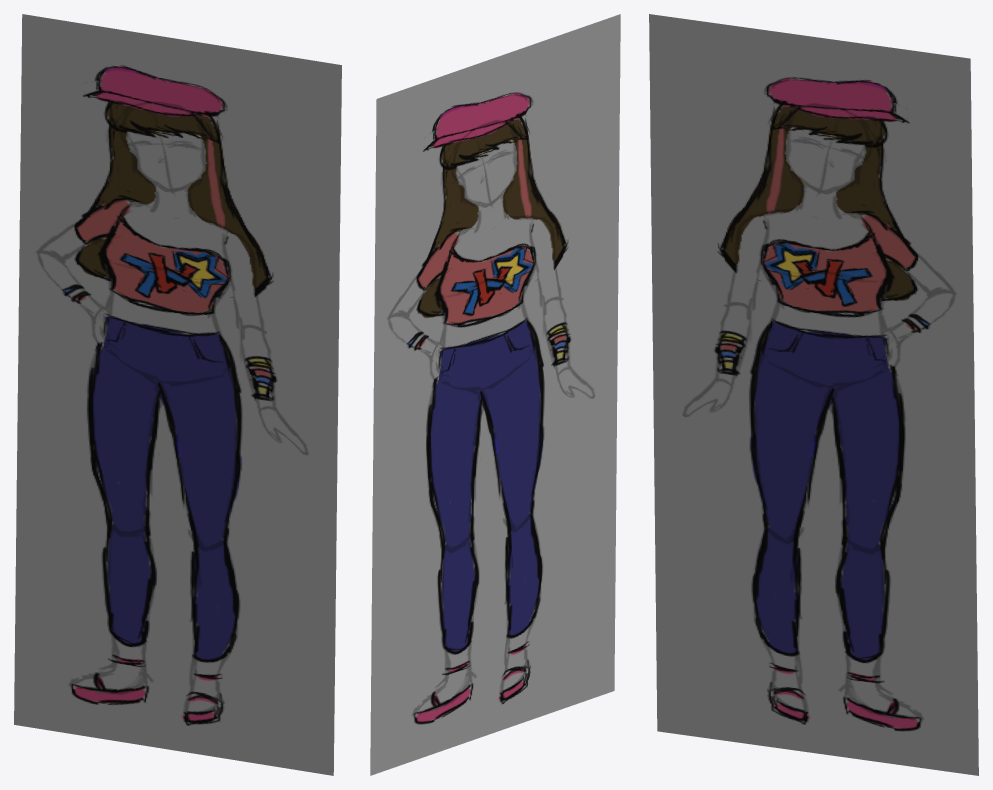
File: Vanessa_Placeholder_01.fbx
3 renders of one model, left to right at view 1: azimuth 90°, elevation 25°; view 2: azimuth 150°, elevation 25°; view 3: azimuth 270°, elevation 25°, orthographic. The views are drawn at different scales.
Visible parts, largest first — view 1: pPlane1; view 2: pPlane1; view 3: pPlane1.
Part boxes in pixels (x1,y1,x2,y2): pPlane1: [14, 14, 341, 775]; pPlane1: [370, 14, 620, 775]; pPlane1: [649, 14, 978, 775].
Size of the model in its own units: 0.6262 by 4.26 by 1.77.
1 material, 1 textured.
